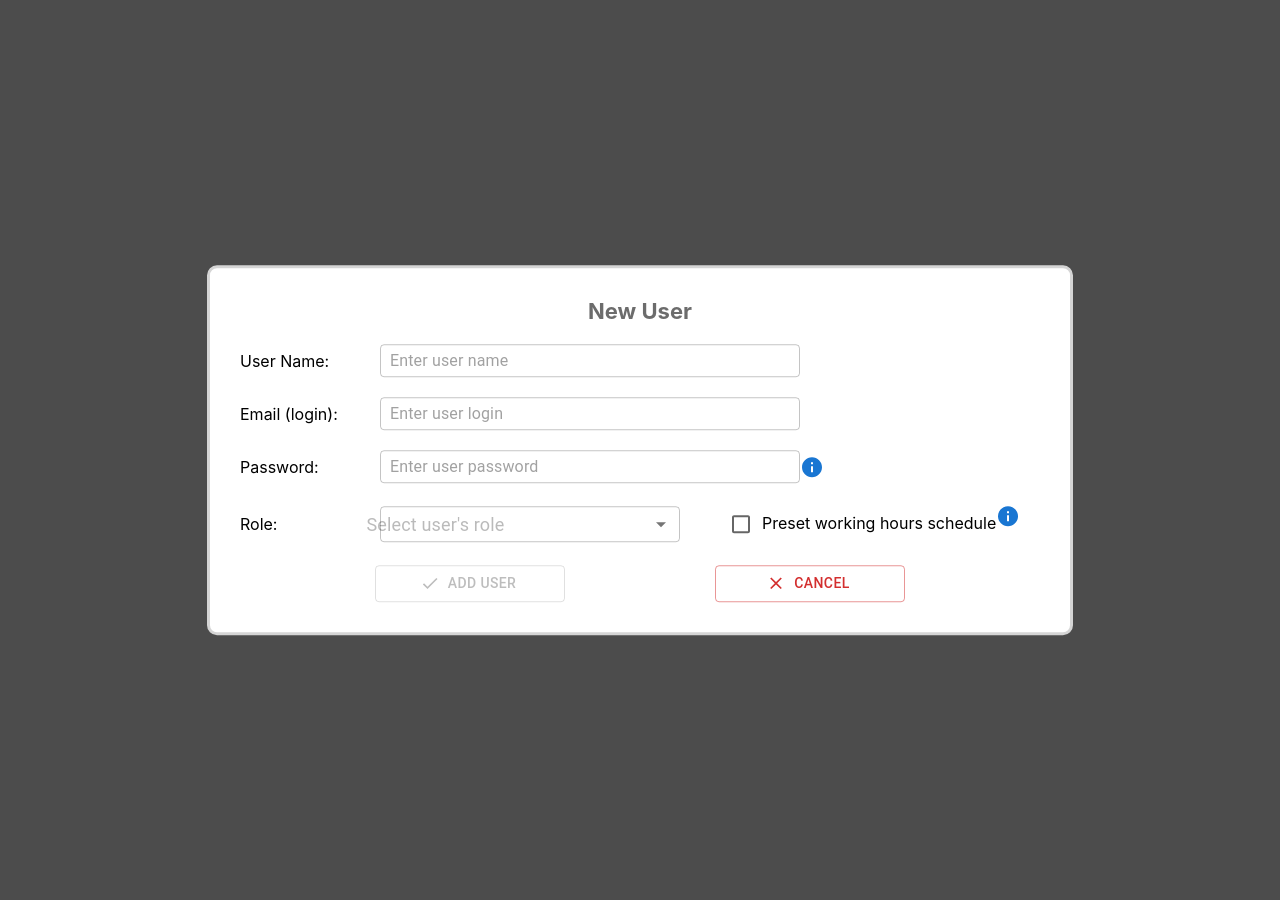
Test: AddNewUserModalContainer test › if validated field entered again, remove error notification
Type "user" into the field with placeholder "Enter user name".
click(590, 361); type("user")  # box [380,344,800,377]
Type "login" into the field with placeholder "Enter user login".
click(590, 414); type("login")  # box [380,397,800,430]
Type "pass" into the password field with placeholder "Enter user password".
click(590, 467); type("pass")  # box [380,450,800,483]
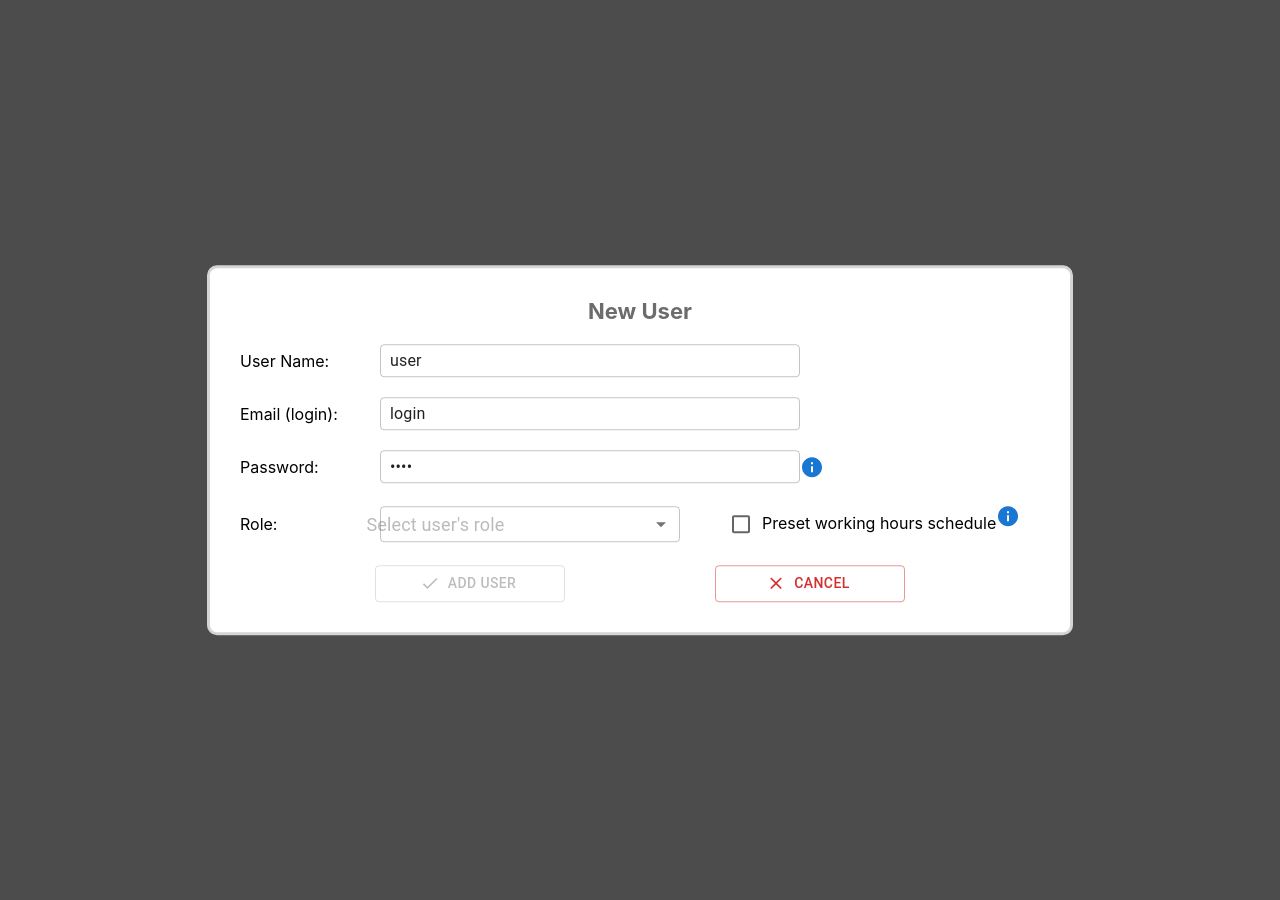
Select "Admin" in the dropdown at x=530, y=524, box [362,506,698,542]
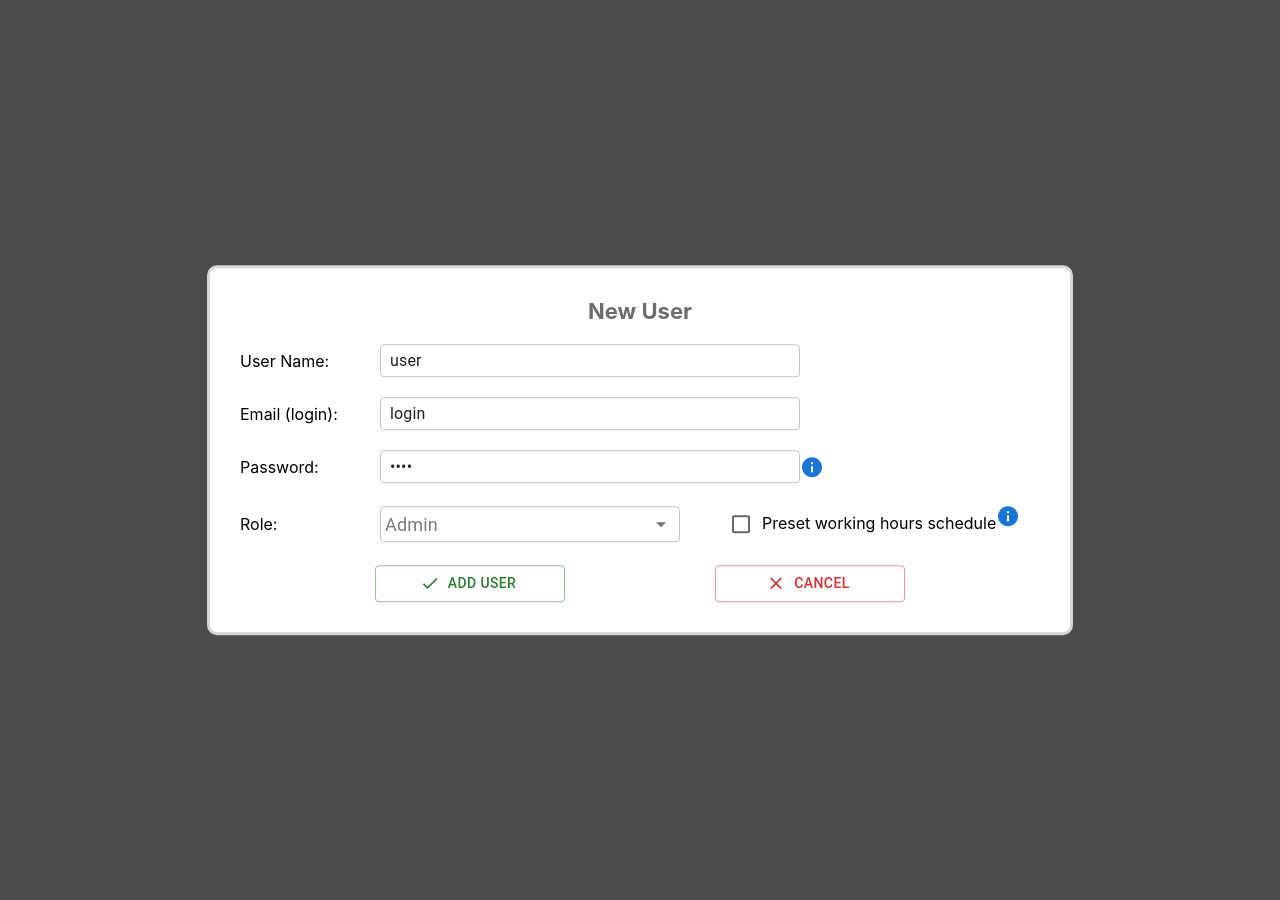
Result: the field with placeholder "Enter user name" next to "User Name:" has attribute value="user" at [380,344,800,377]
Result: the field with placeholder "Enter user login" next to "Email (login):" has attribute value="login" at [380,397,800,430]
Result: the button "Add User" does not have class "Mui-disabled"
Click the button "Add User".
click(470, 584)  # box [375,565,565,602]
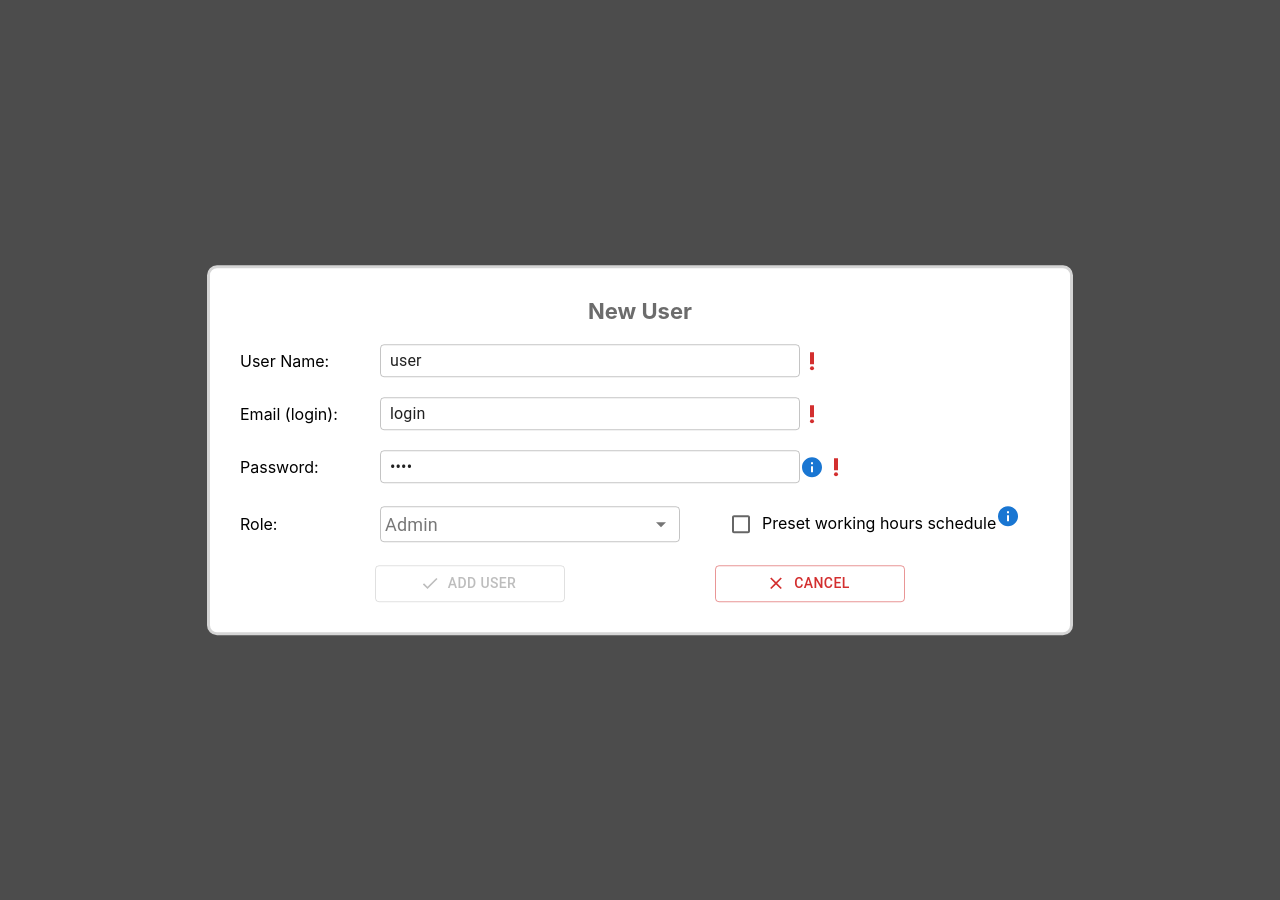
Result: the number of icons with test id "PriorityHighIcon" is 3 at [800,349,824,373]; [800,402,824,426]; [824,455,848,479]
Type "password" into the password field with placeholder "Enter user password".
click(590, 467); type("password")  # box [380,450,800,483]
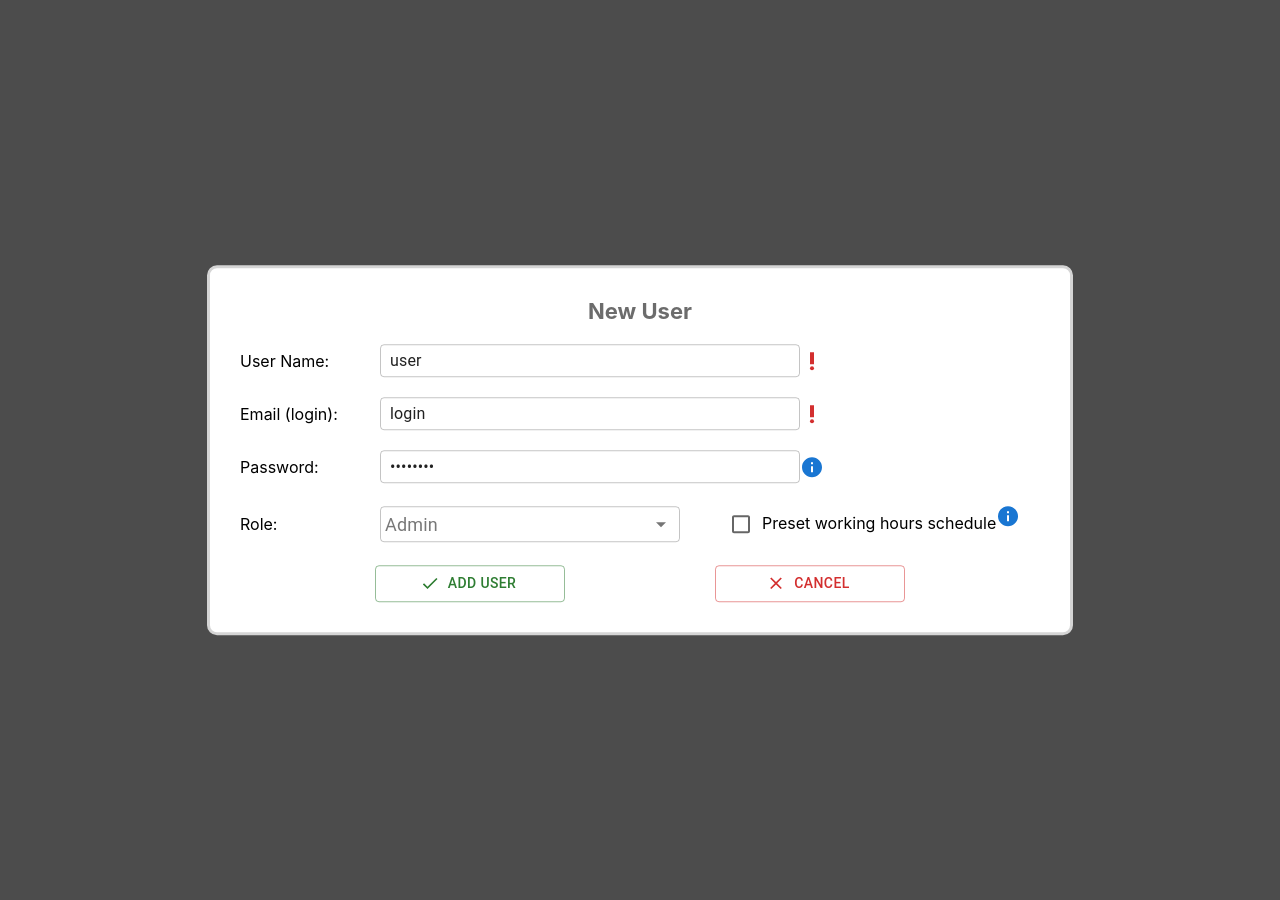
Expected: the number of icons with test id "PriorityHighIcon" is 2, [800,349,824,373]; [800,402,824,426]
Replace the text in the field with placeholder "Enter user name" next to "User Name:" with "username1" at x=590, y=361, box [380,344,800,377]
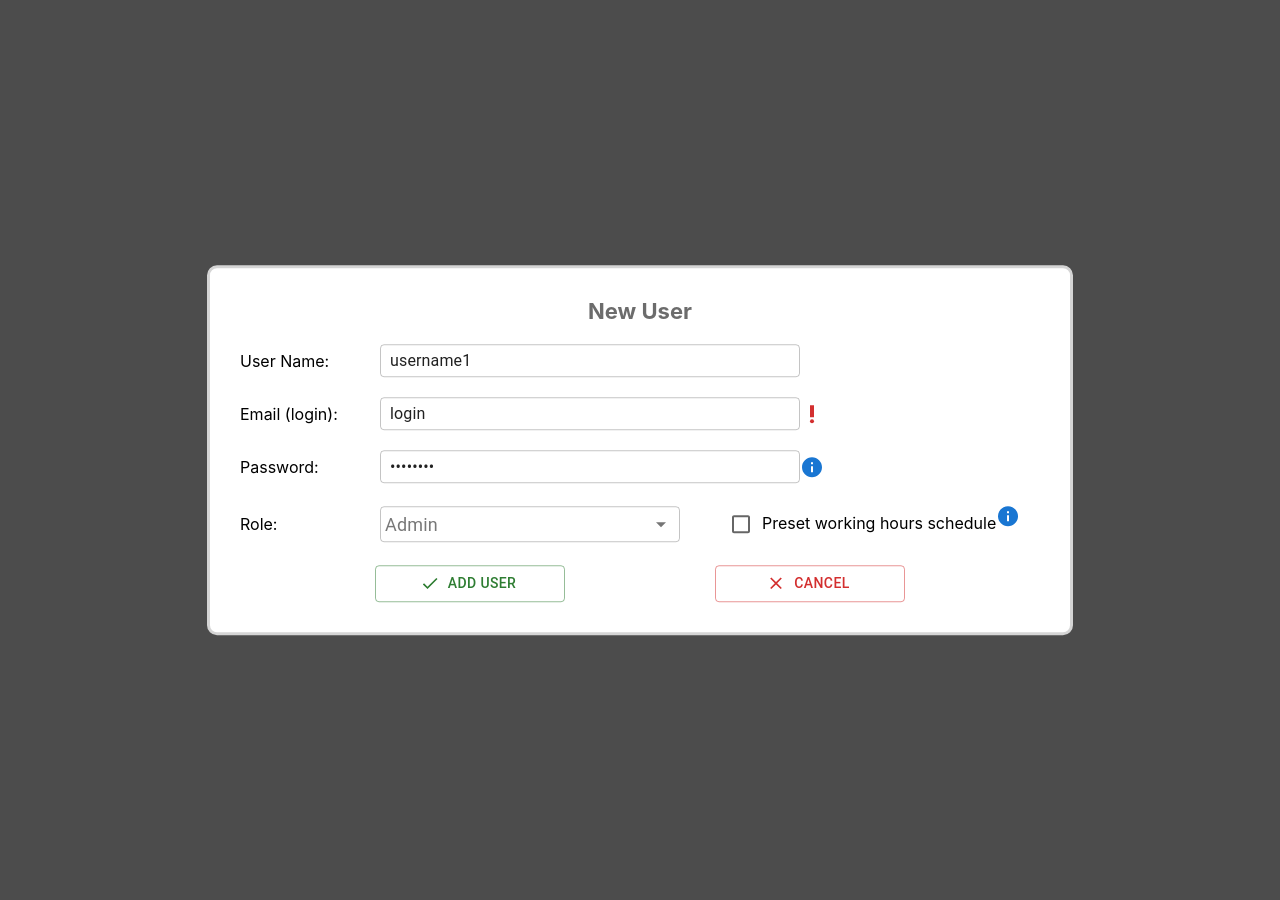
Expected: the number of icons with test id "PriorityHighIcon" is 1, [800,402,824,426]
Replace the text in the field with placeholder "Enter user login" next to "Email (login):" with "login@mail.ru" at x=590, y=414, box [380,397,800,430]
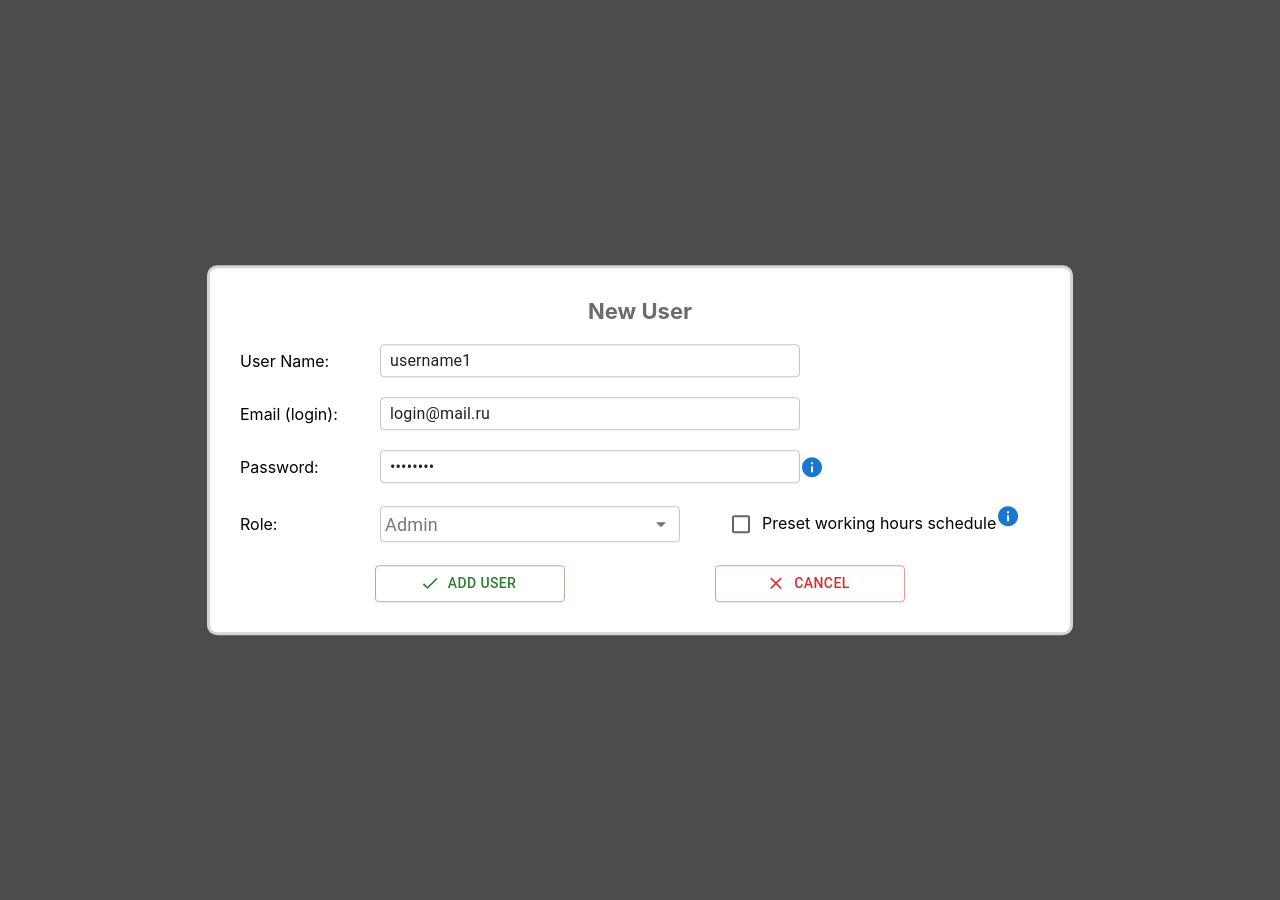
Result: no icons with test id "PriorityHighIcon" are shown
